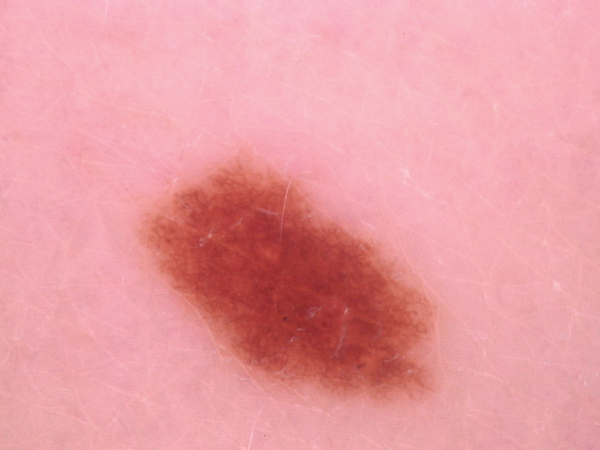Detected Lesion: (130, 153, 443, 403)
